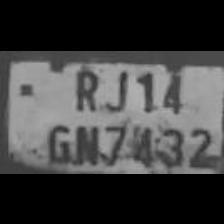1: (129, 63, 157, 113)
2: (182, 120, 214, 168)
3: (152, 118, 184, 168)
4: (155, 57, 186, 113), (125, 119, 155, 165)
7: (97, 115, 127, 163)
G: (43, 118, 74, 164)
J: (99, 62, 130, 112)
N: (72, 117, 98, 163)
R: (68, 62, 100, 112)
